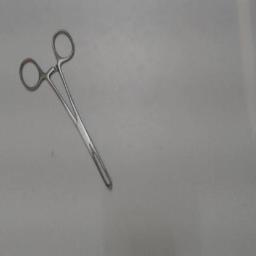Allis Tissue Forceps: (14, 24, 118, 196)
